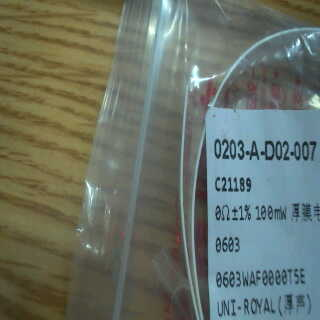0R: (213, 201, 290, 255)
